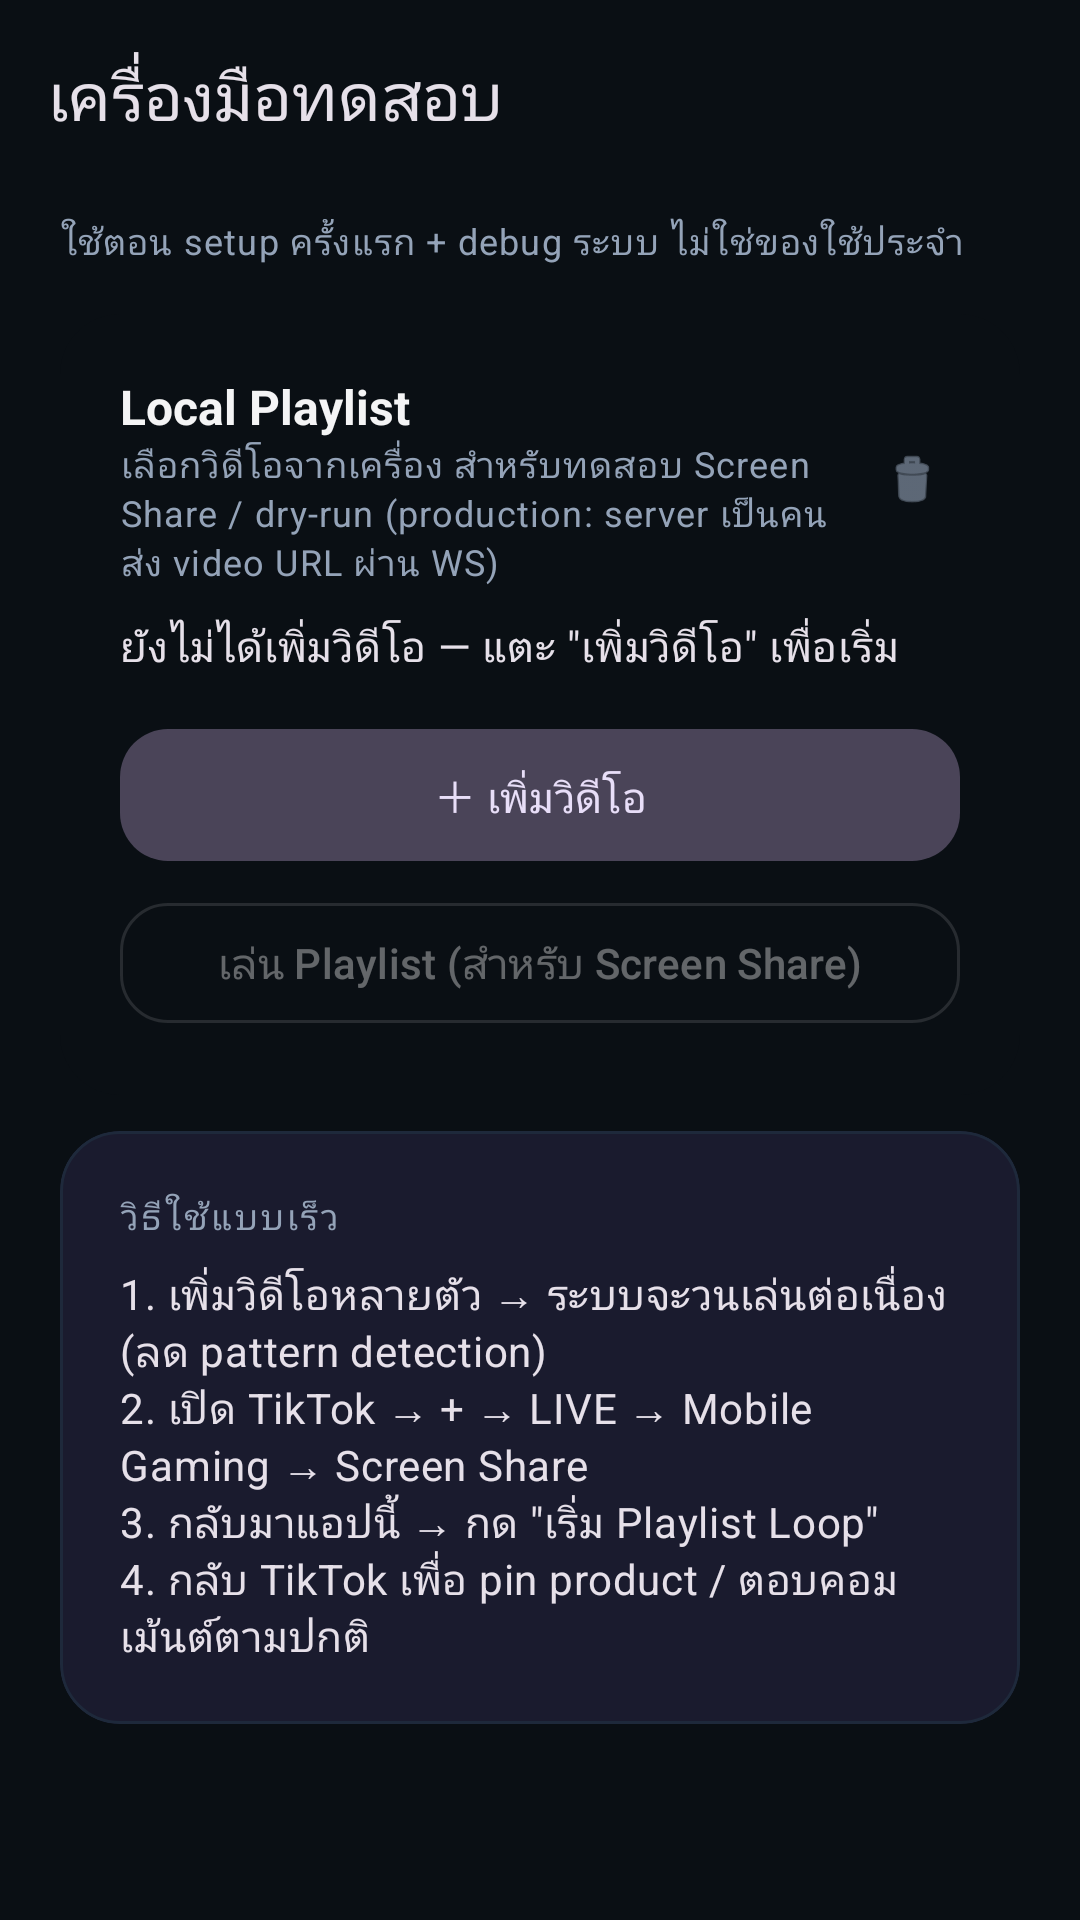

Screen size 1080px×1920px. Icon name, then its center in pixels as (x,y):
ล้าง: (912,479)
